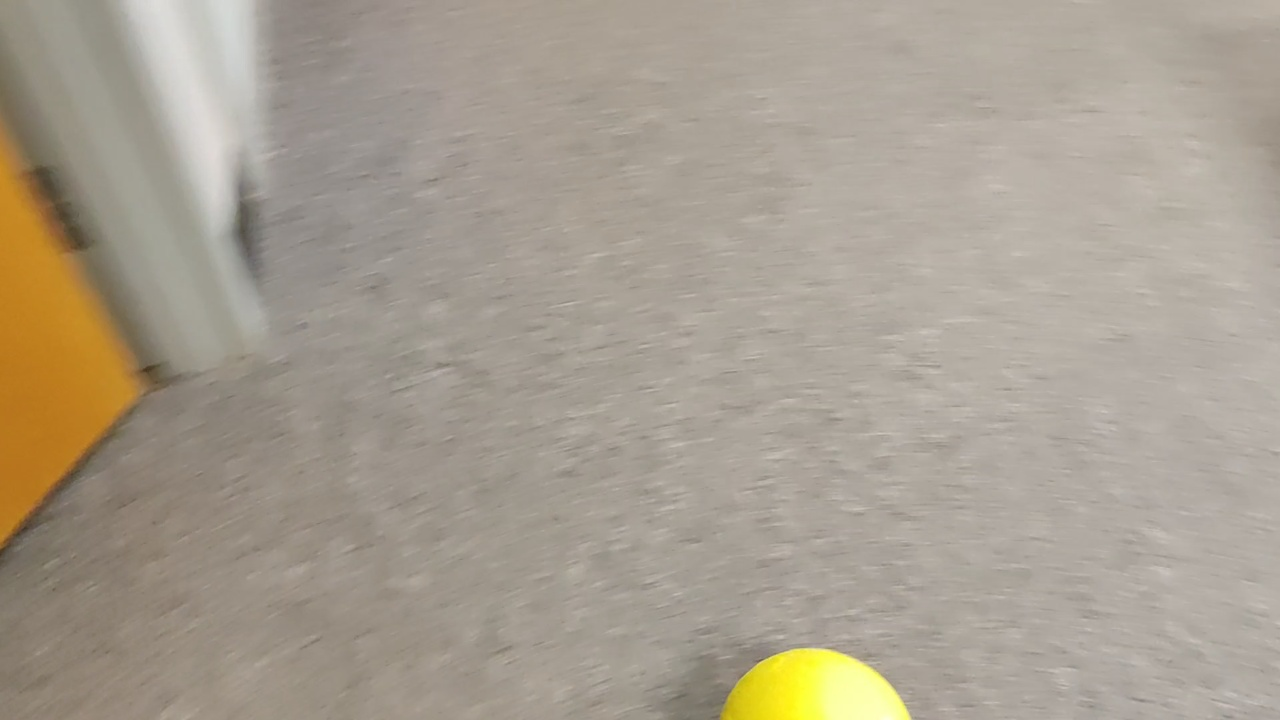Ball: (706, 649, 920, 720)
